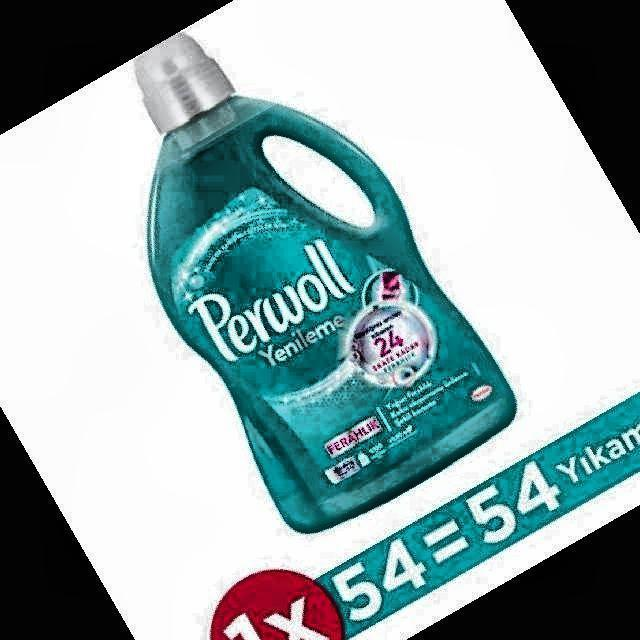plastic: (135, 34, 515, 531)
